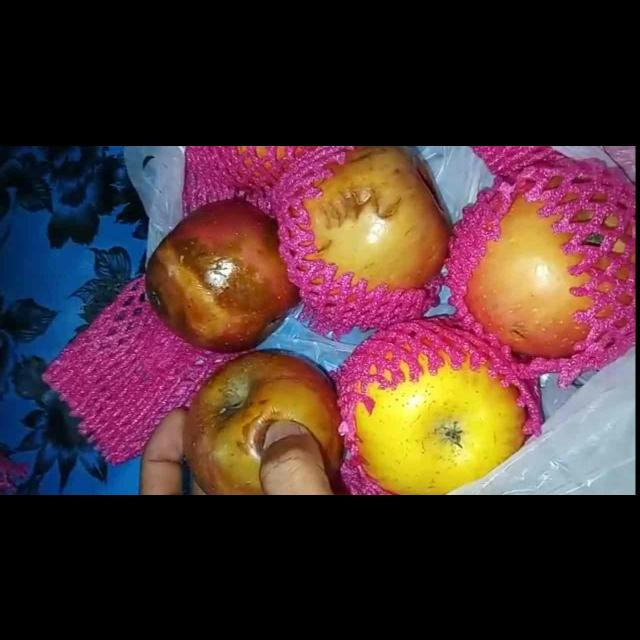Apel Segar: (335, 323, 545, 495)
Apel Tidak Segar: (458, 164, 640, 376), (269, 145, 461, 323), (116, 185, 314, 351), (157, 344, 351, 494)
